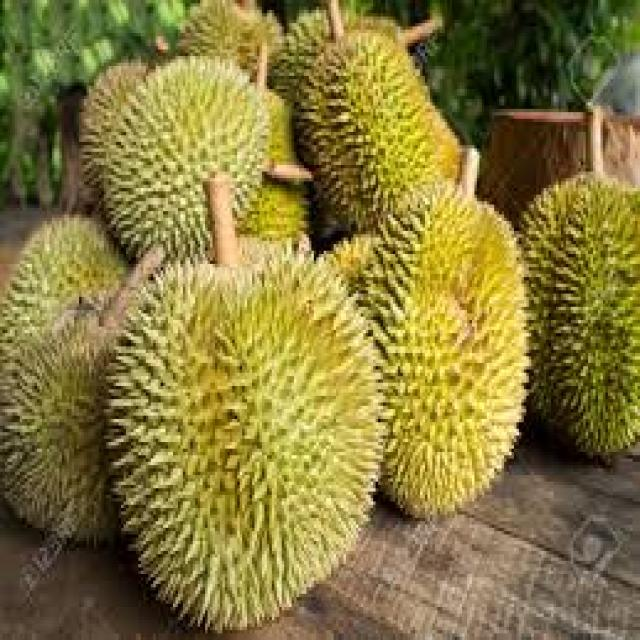immature: (106, 242, 389, 626), (337, 185, 534, 522), (519, 164, 640, 458)
